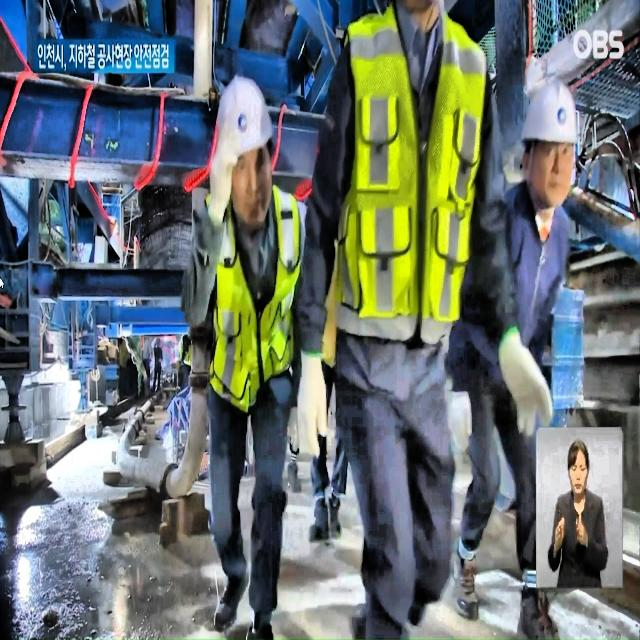safety_helmet: (202, 61, 284, 157), (511, 65, 584, 156)
safety_jacket: (344, 24, 481, 334), (195, 181, 309, 406)
